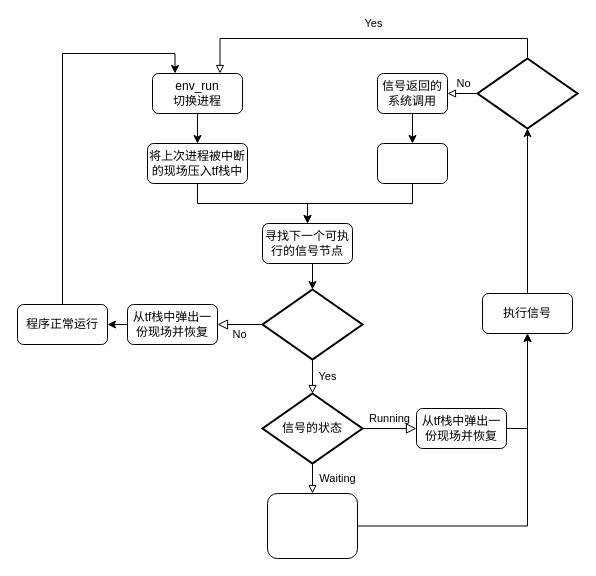
The diagram is 596 pixels wide and 576 high, and some of its shapes have lost their labels. The centre of each missing label's shape, as x and y in pixels:
将上一个信号节点移出: (412,163)
将信号状态改为Running。设置epc等开始执行信号: (312,525)
是否有信号重入: (527,93)
是否有可执行信号: (312,324)
